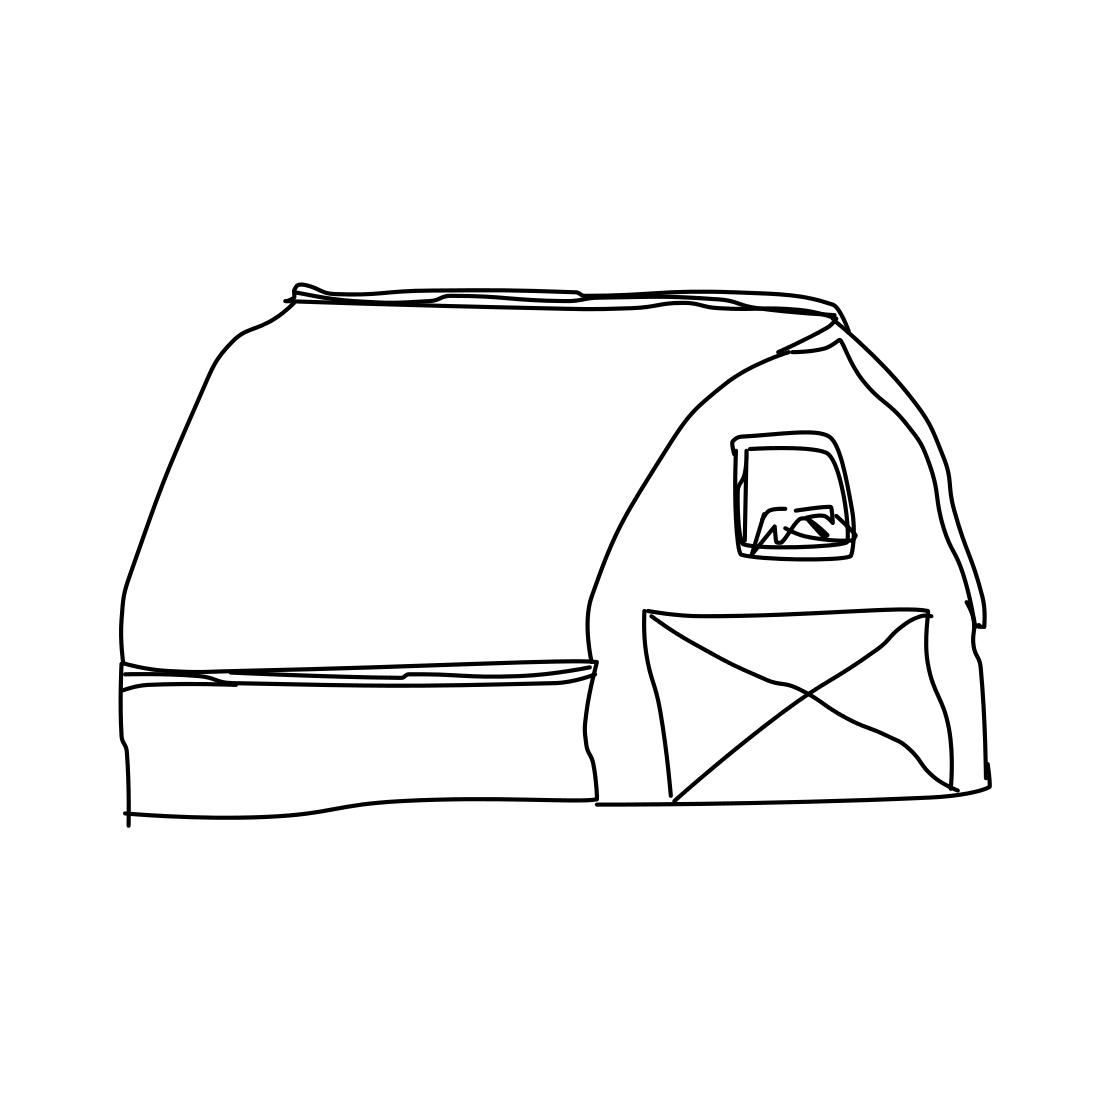House: (45, 208, 1038, 846)
